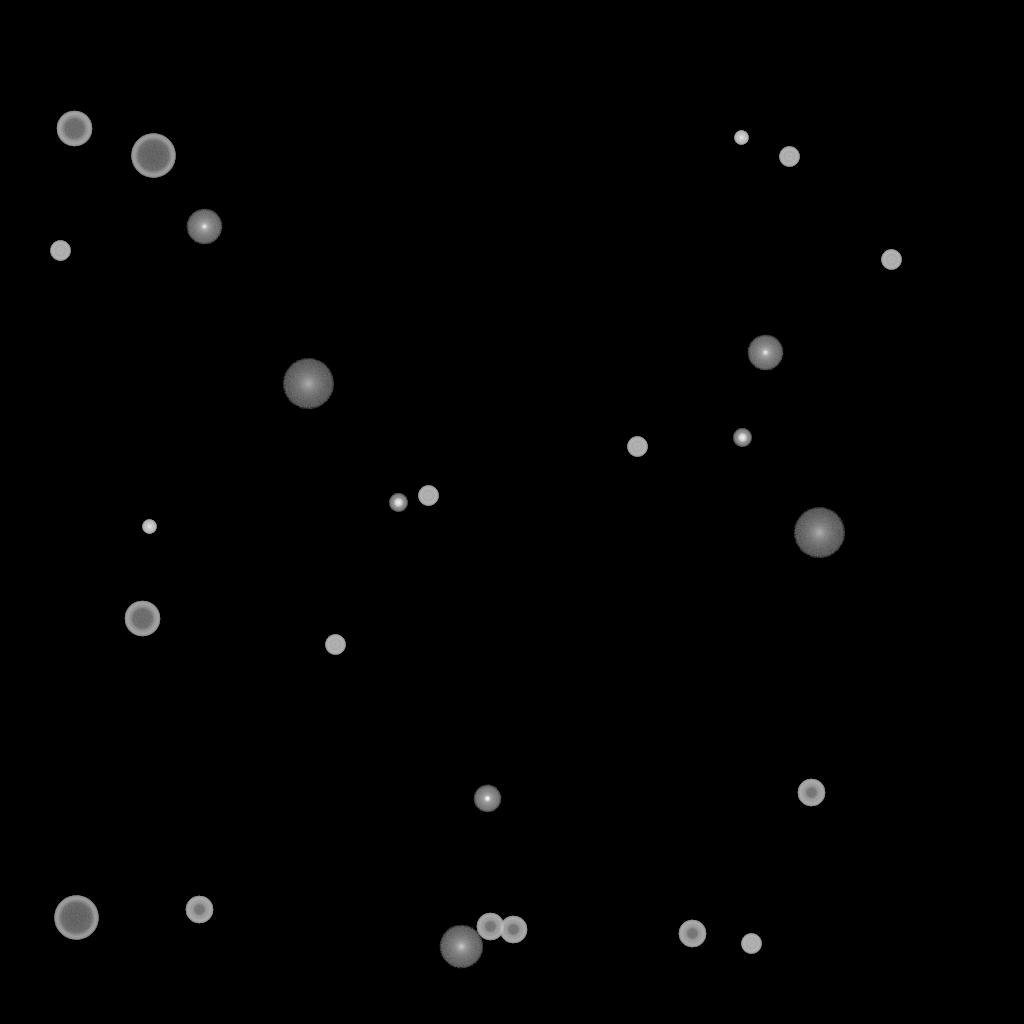depth:-10: (473, 785, 501, 813)
depth:-20: (733, 429, 751, 447), (389, 494, 407, 512)
depth:-30: (142, 520, 156, 534), (734, 131, 748, 145)
depth:-40: (741, 934, 761, 954), (779, 147, 799, 167), (418, 486, 438, 506), (325, 635, 345, 655), (627, 437, 647, 457), (50, 241, 70, 261), (881, 250, 901, 270)
depth:-50: (499, 916, 527, 944), (797, 779, 825, 807), (476, 913, 504, 941), (678, 920, 706, 948), (185, 896, 213, 924)
depth:-60: (56, 111, 92, 147), (124, 601, 160, 637)
depth:-70: (54, 896, 98, 940), (131, 134, 175, 178)
depth:0: (747, 335, 783, 371), (186, 209, 222, 245)
depth:10: (439, 925, 483, 969)
depth:20: (793, 508, 845, 558), (282, 359, 334, 409)
